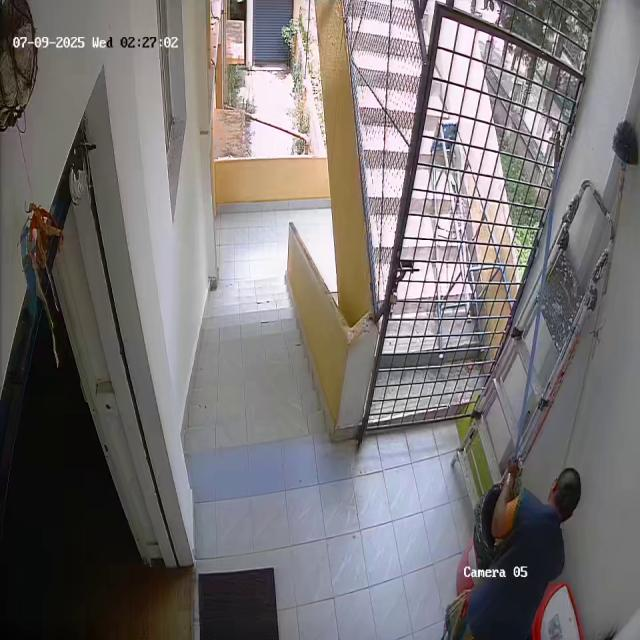person: (484, 460, 583, 640)
